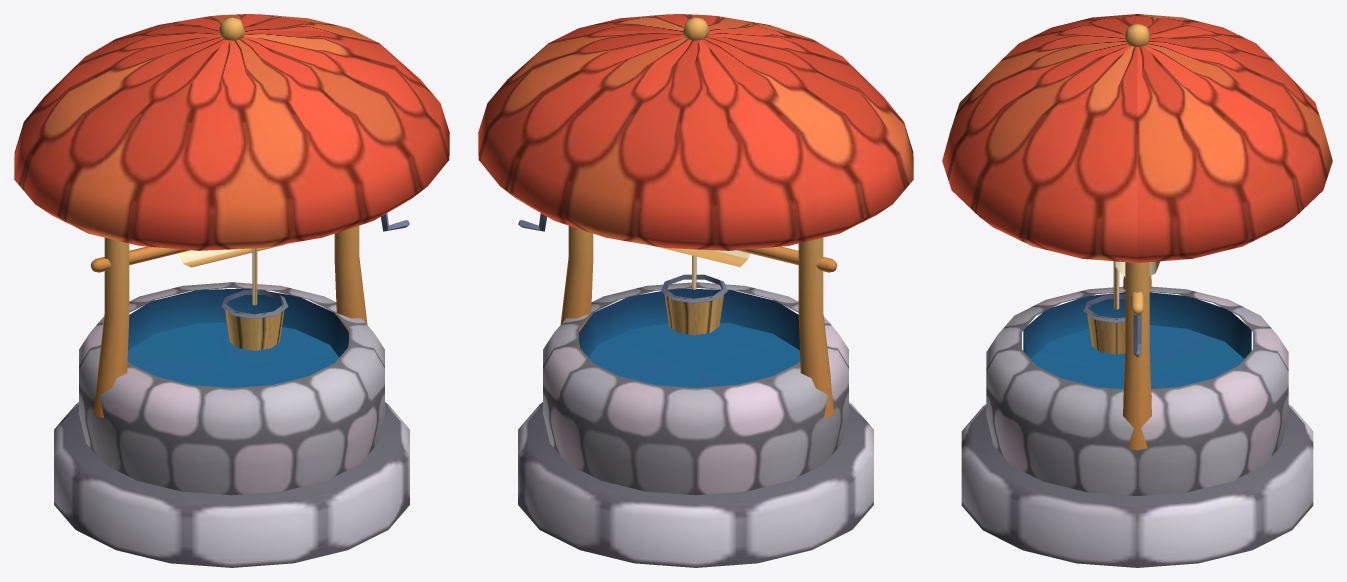
Rendered from well.glb.
3 views of the same model, side by side, from view 1: azimuth 30°, elevation 25°; view 2: azimuth 150°, elevation 25°; view 3: azimuth 270°, elevation 25° (orthographic).
Parts seen in each view (by area): view 1: well; view 2: well; view 3: well.
Boxes of the visible parts, x1,y1,x2,y2 form: well: (14, 14, 449, 567); well: (478, 14, 913, 567); well: (942, 14, 1332, 567).
Bounding box in the file's own units: 3.22 × 3.7 × 2.8.
3 materials, 3 textured.
